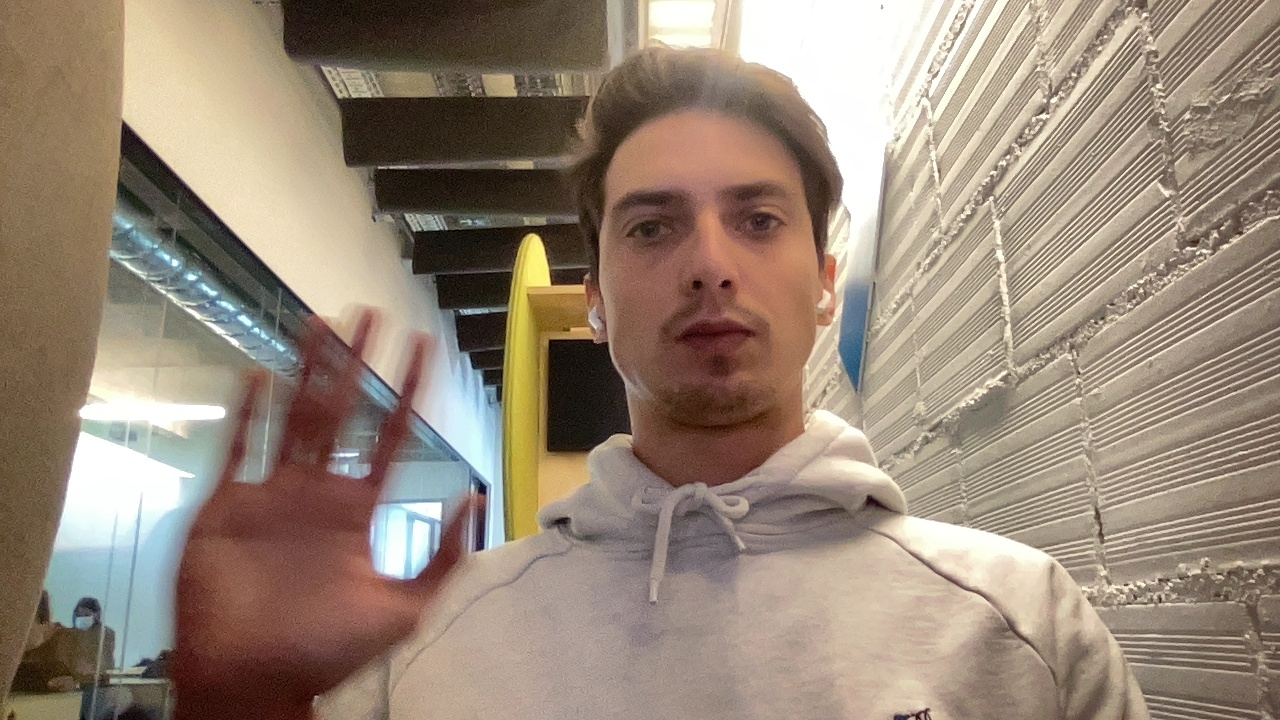Hello: (118, 293, 502, 691)
